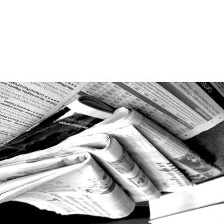news_paper: (0, 81, 224, 143), (61, 105, 223, 185), (0, 131, 163, 208), (45, 122, 197, 195), (0, 153, 137, 219)
